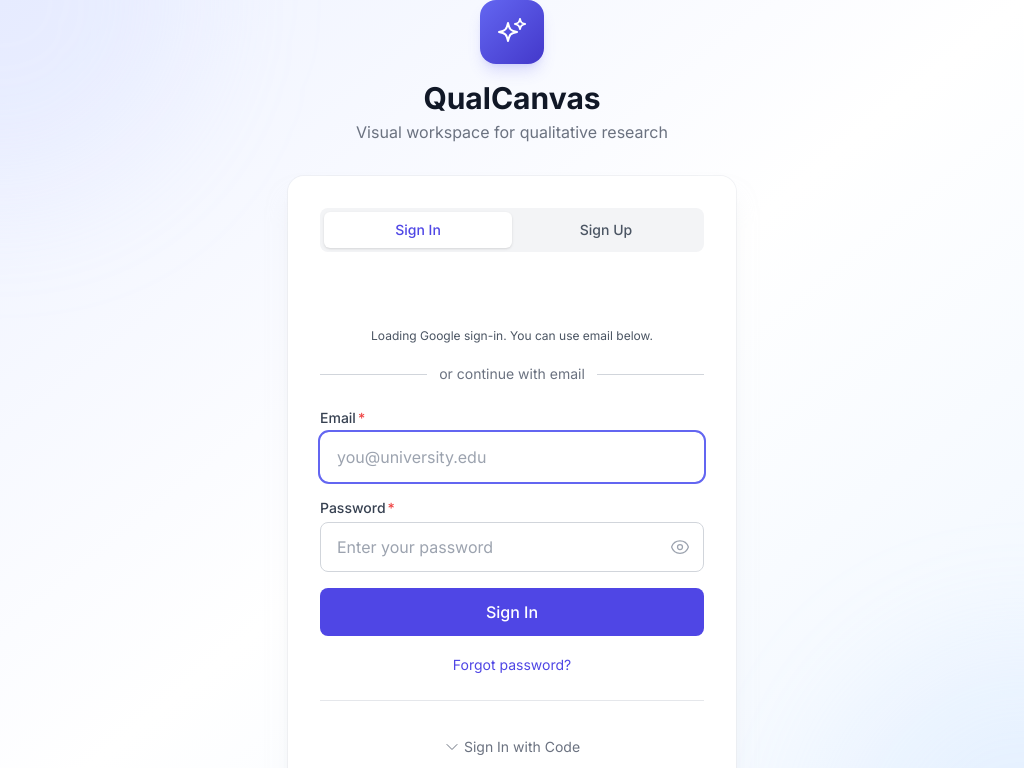
Test: Accessibility › LoginPage › password field has show/hide toggle with aria-label
The image size is (1024, 768).
Click the button named "Show password".
click(680, 547)  # box [660,527,700,567]
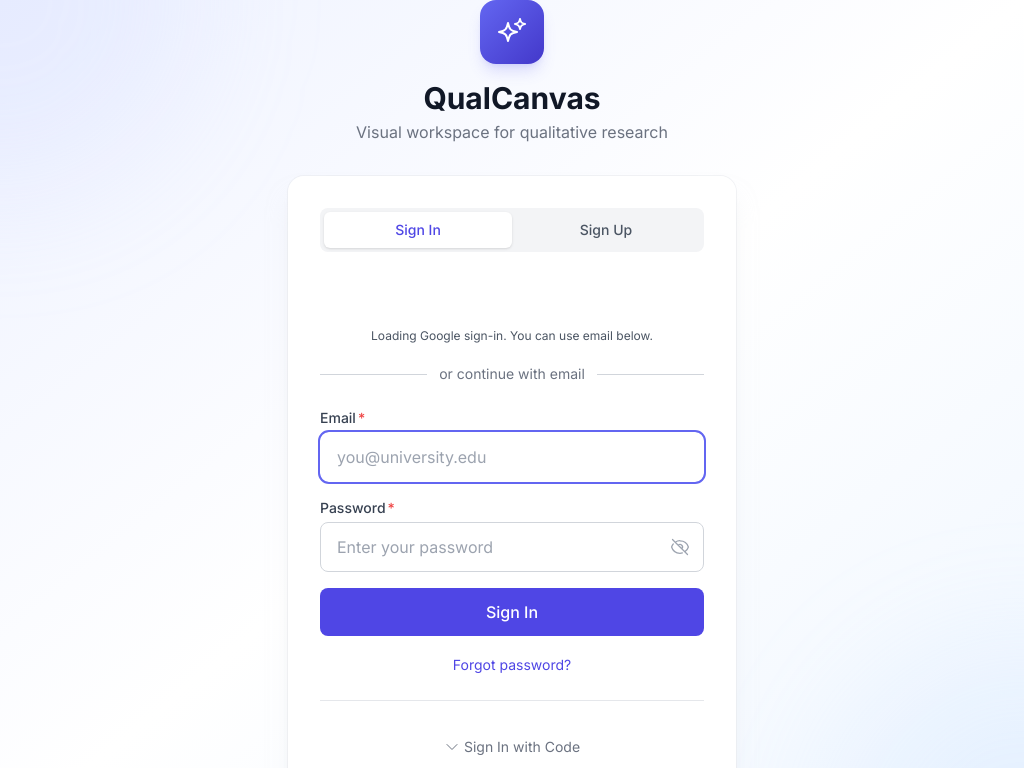
Now the button named "Hide password" is shown, box [660,527,700,567]
